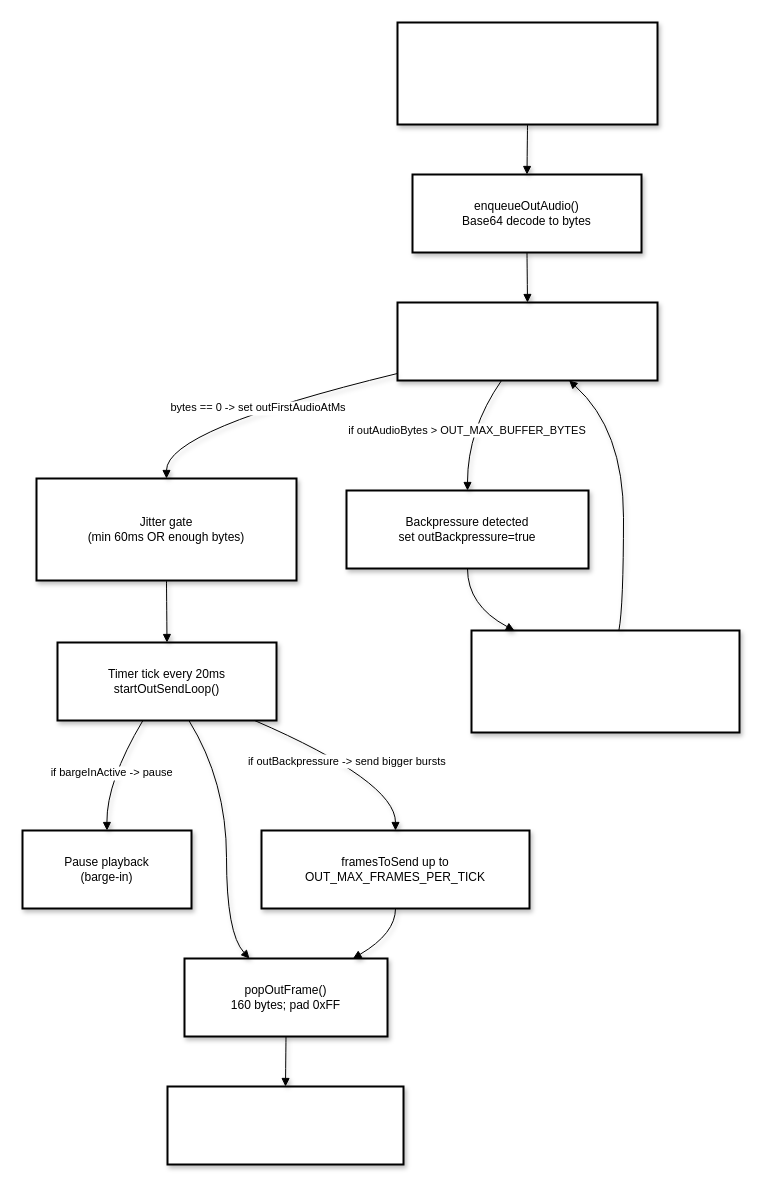
Image size: 763x1189. Some labels were removed from this diagram. Here are the shapes that lost their labels. From the top down, the centre of each, then its label:
the point at 528,74: OpenAI: response.audio.delta (base64 g711_ulaw)
the point at 528,342: outAudioChunks[] + outAudioBytes
the point at 606,682: trimOutAudioToTargetBytes() drop oldest audio to ~60% target
the point at 286,1126: Twilio: event=media (base64 160-byte frame)
